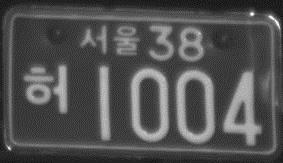0: (129, 65, 170, 143), (176, 69, 217, 145)
1: (92, 63, 117, 144)
3: (148, 22, 174, 62)
4: (221, 68, 264, 147)
8: (177, 26, 206, 61)
서울_O: (80, 23, 141, 56)
허: (22, 62, 70, 115)
